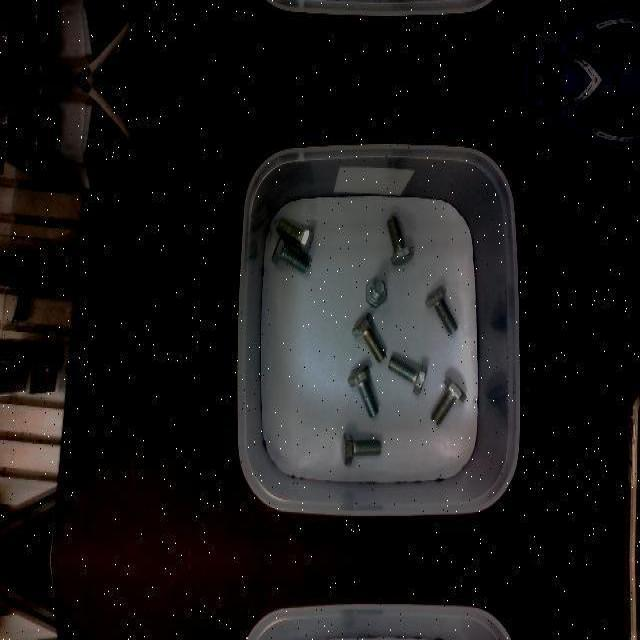screw: (430, 377, 467, 427), (351, 313, 385, 363), (347, 364, 378, 418), (425, 284, 458, 334), (387, 355, 427, 393), (272, 234, 309, 274), (275, 217, 313, 255), (341, 431, 381, 465), (387, 215, 414, 265), (365, 277, 386, 307)
